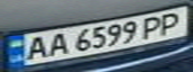5: (90, 24, 112, 51)
6: (72, 26, 93, 53)
9: (118, 18, 142, 44), (106, 21, 127, 47)
A: (18, 34, 54, 62), (42, 30, 72, 57)
P: (154, 10, 190, 36), (136, 14, 169, 39)
